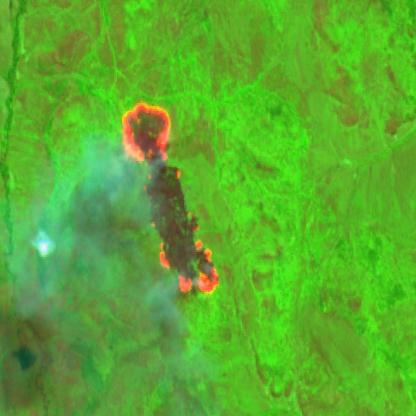fire: (116, 100, 220, 304)
